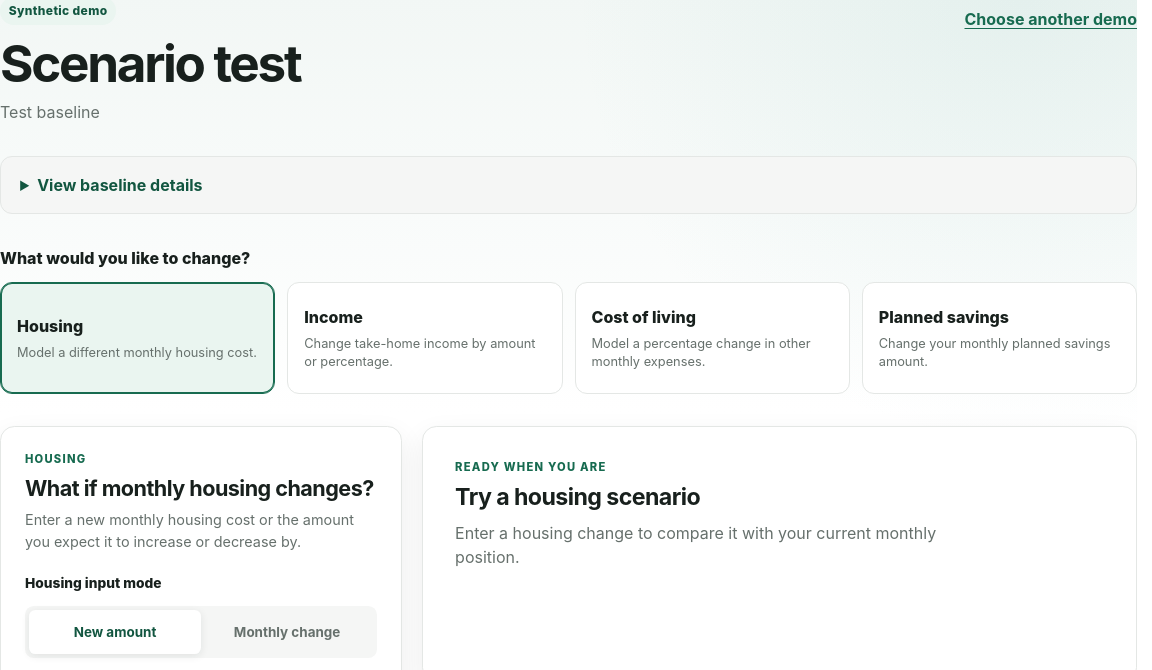
Scenario: ScenarioLab › supports absolute and percentage income increases and decreases
The width and height of the screenshot is (1152, 670).
Click the button "Income Change take-home income by amount or percentage.". click: {"x": 425, "y": 338}
box: [287,282,563,394]
(page scrolled)
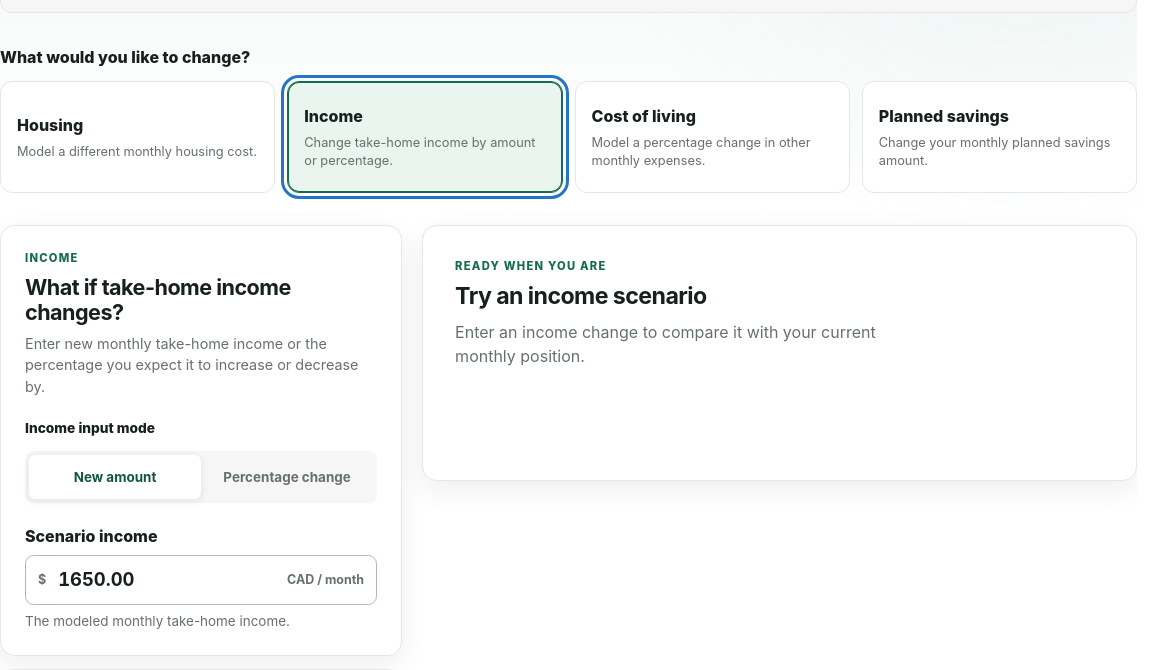
Replace the text in the field labelled "Scenario income" with "2000". click: {"x": 167, "y": 580}
box: [58,556,275,604]
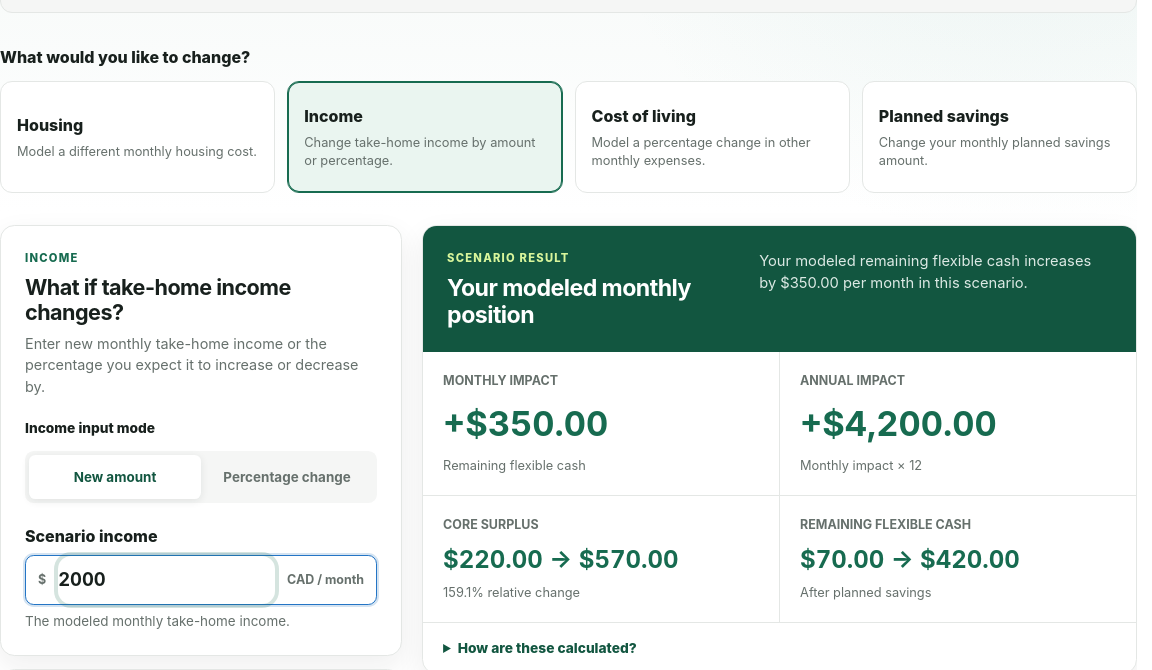
Click the button "Percentage change". click: {"x": 287, "y": 477}
box: [201,455,373,499]
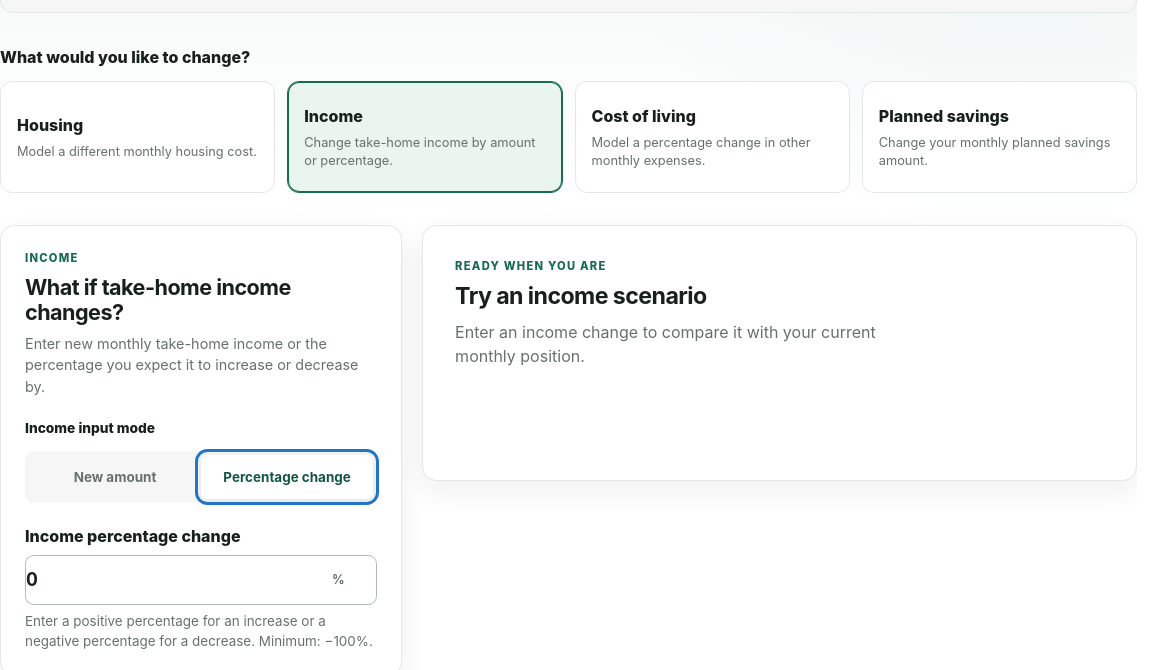
Replace the text in the field labelled "Income percentage change" with "-10". click: {"x": 173, "y": 580}
box: [26,556,320,604]
(page scrolled)
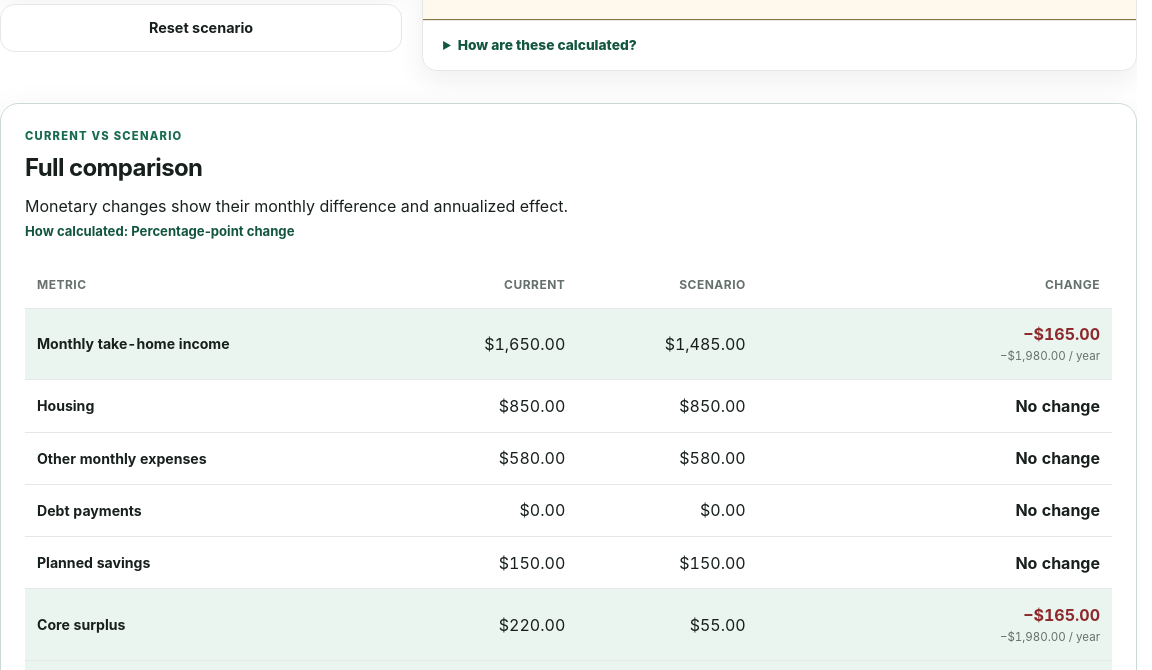
Check: the text "$1,485.00" is shown, box [577,308,758,380]
Check: the text "−$165.00" in the row of "$1,650.00" is shown, box [1023,324,1100,344]
Check: the text "−$1,980.00 / year" in the row of "$1,650.00" is shown, box [1000,350,1100,364]
